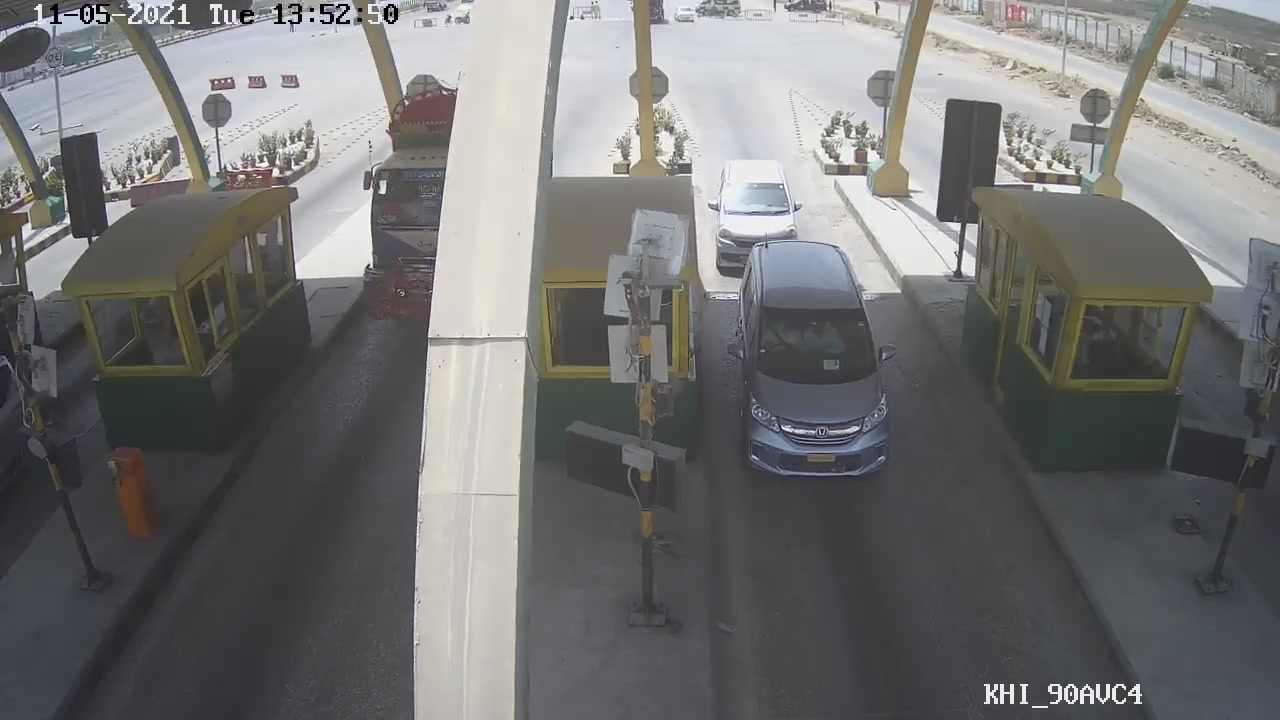F1: (721, 233, 901, 487)
